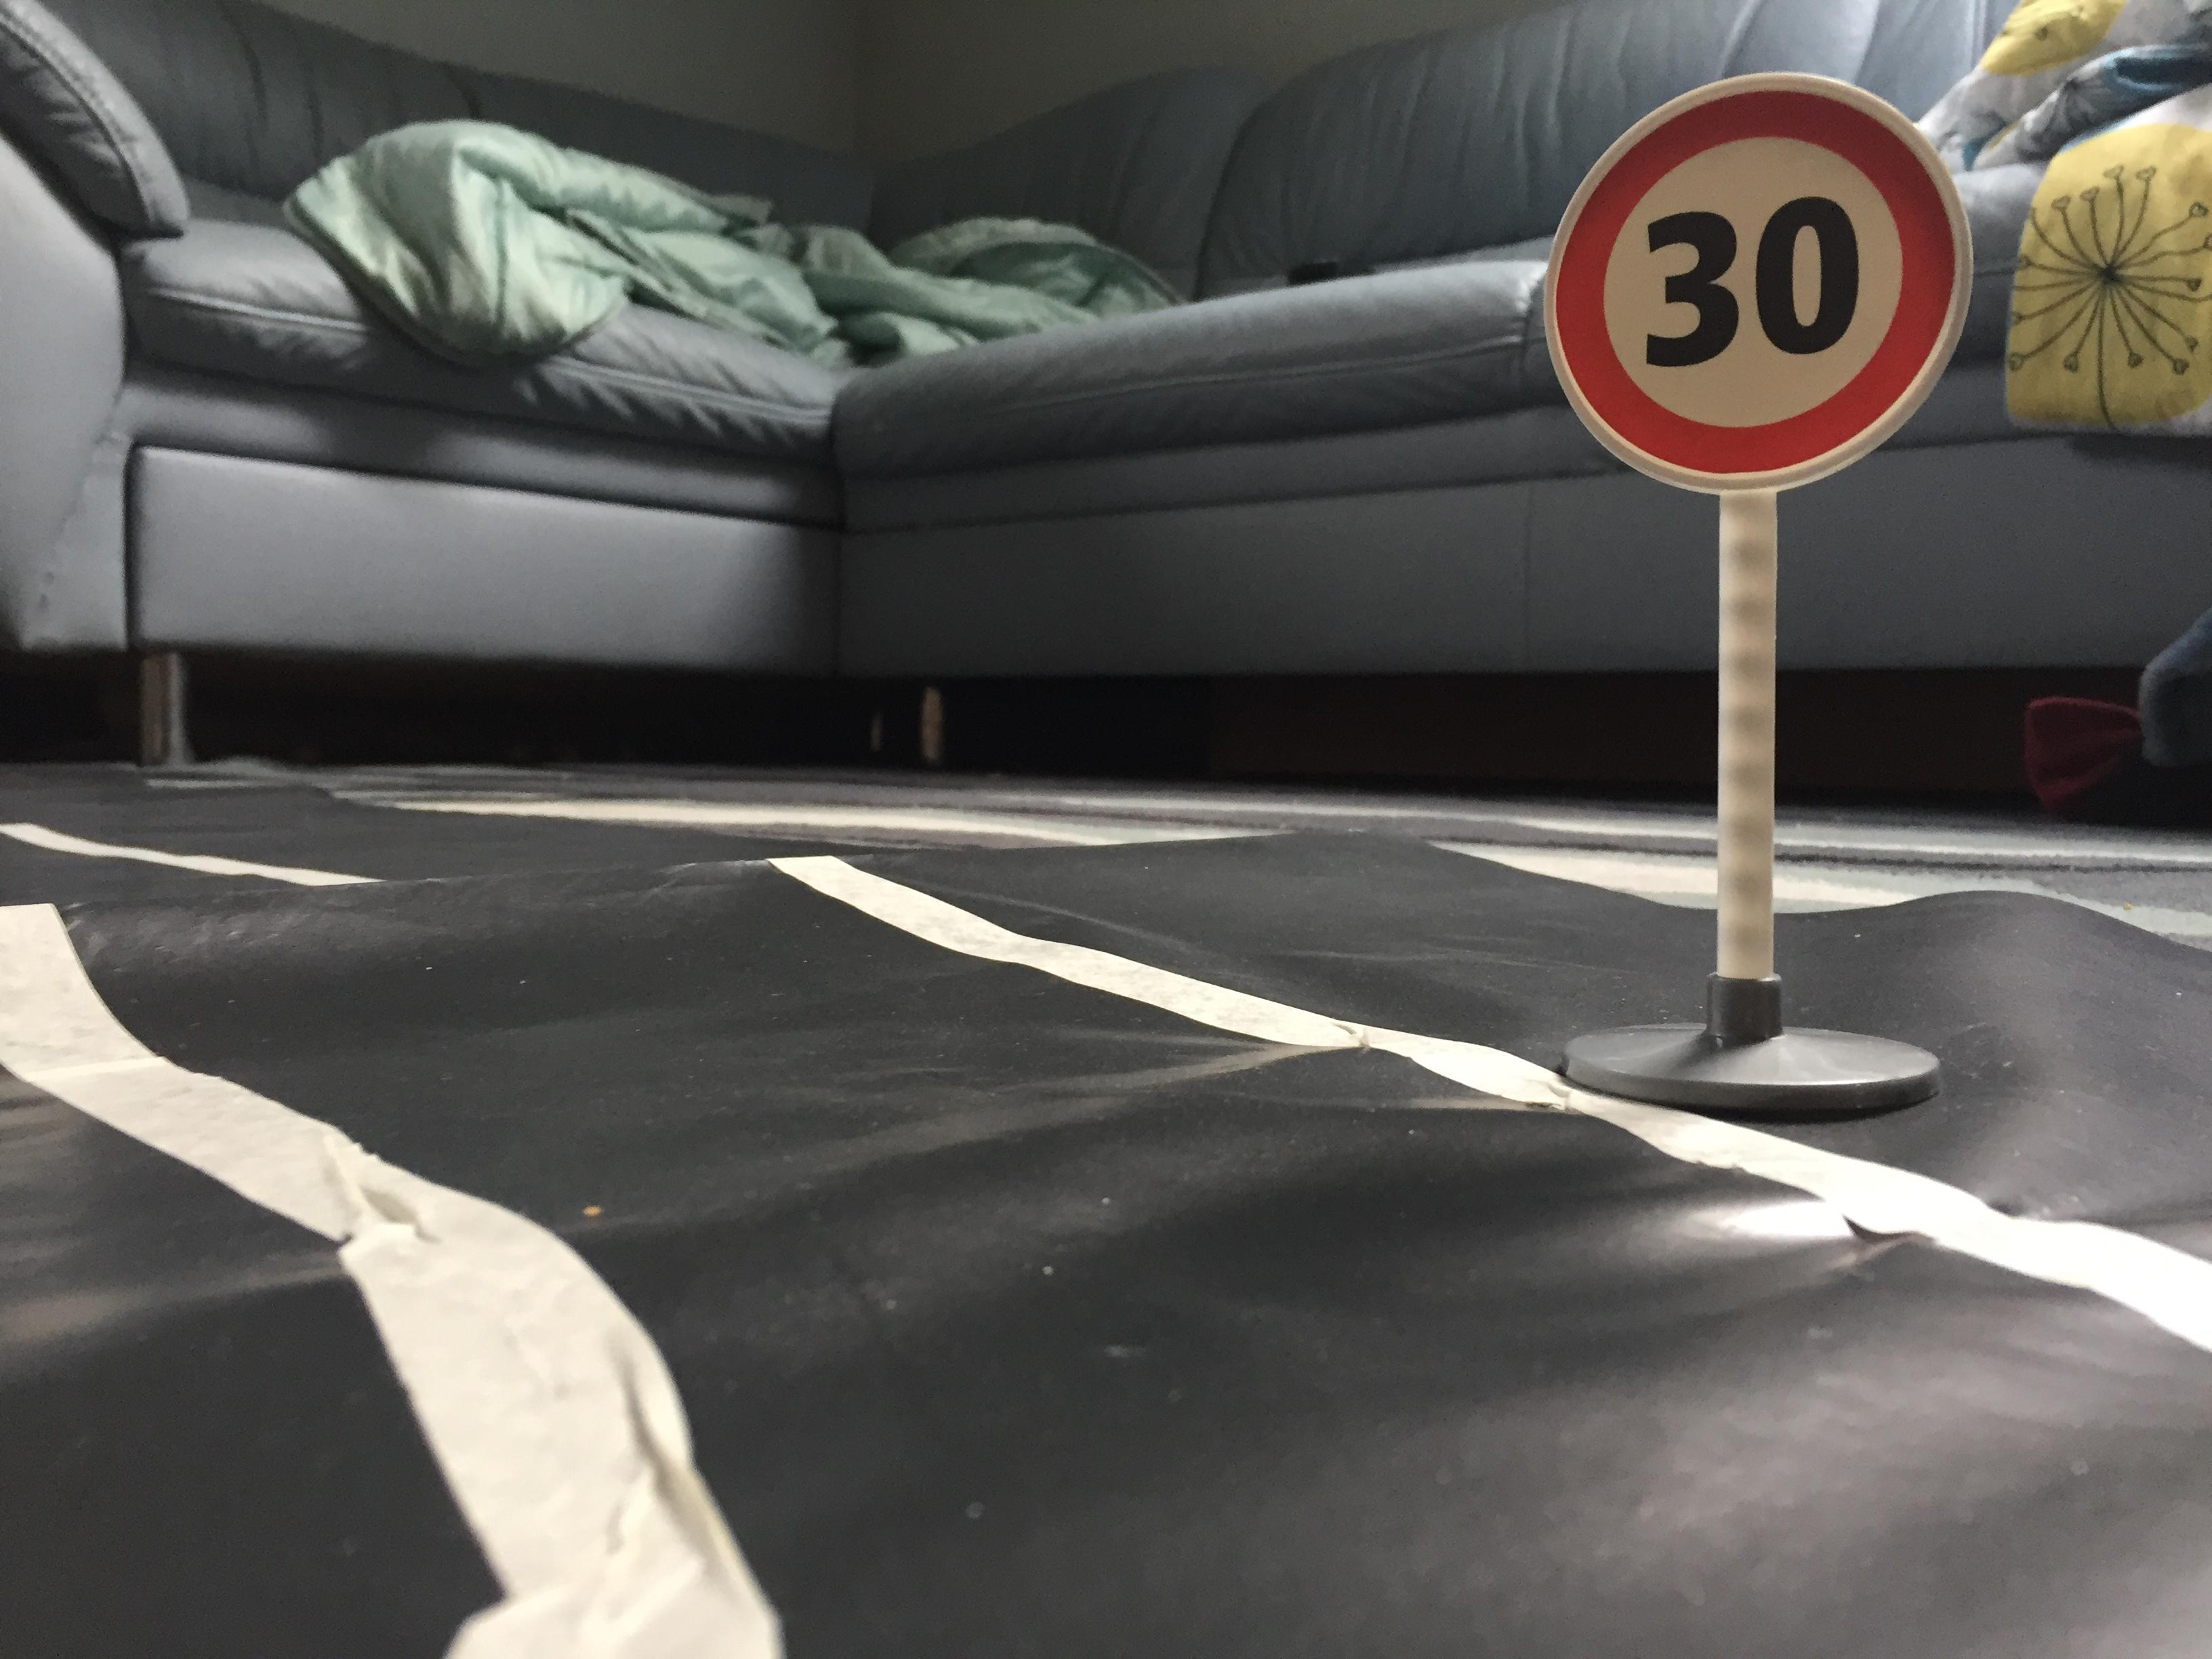speed: (1527, 61, 1982, 504)
